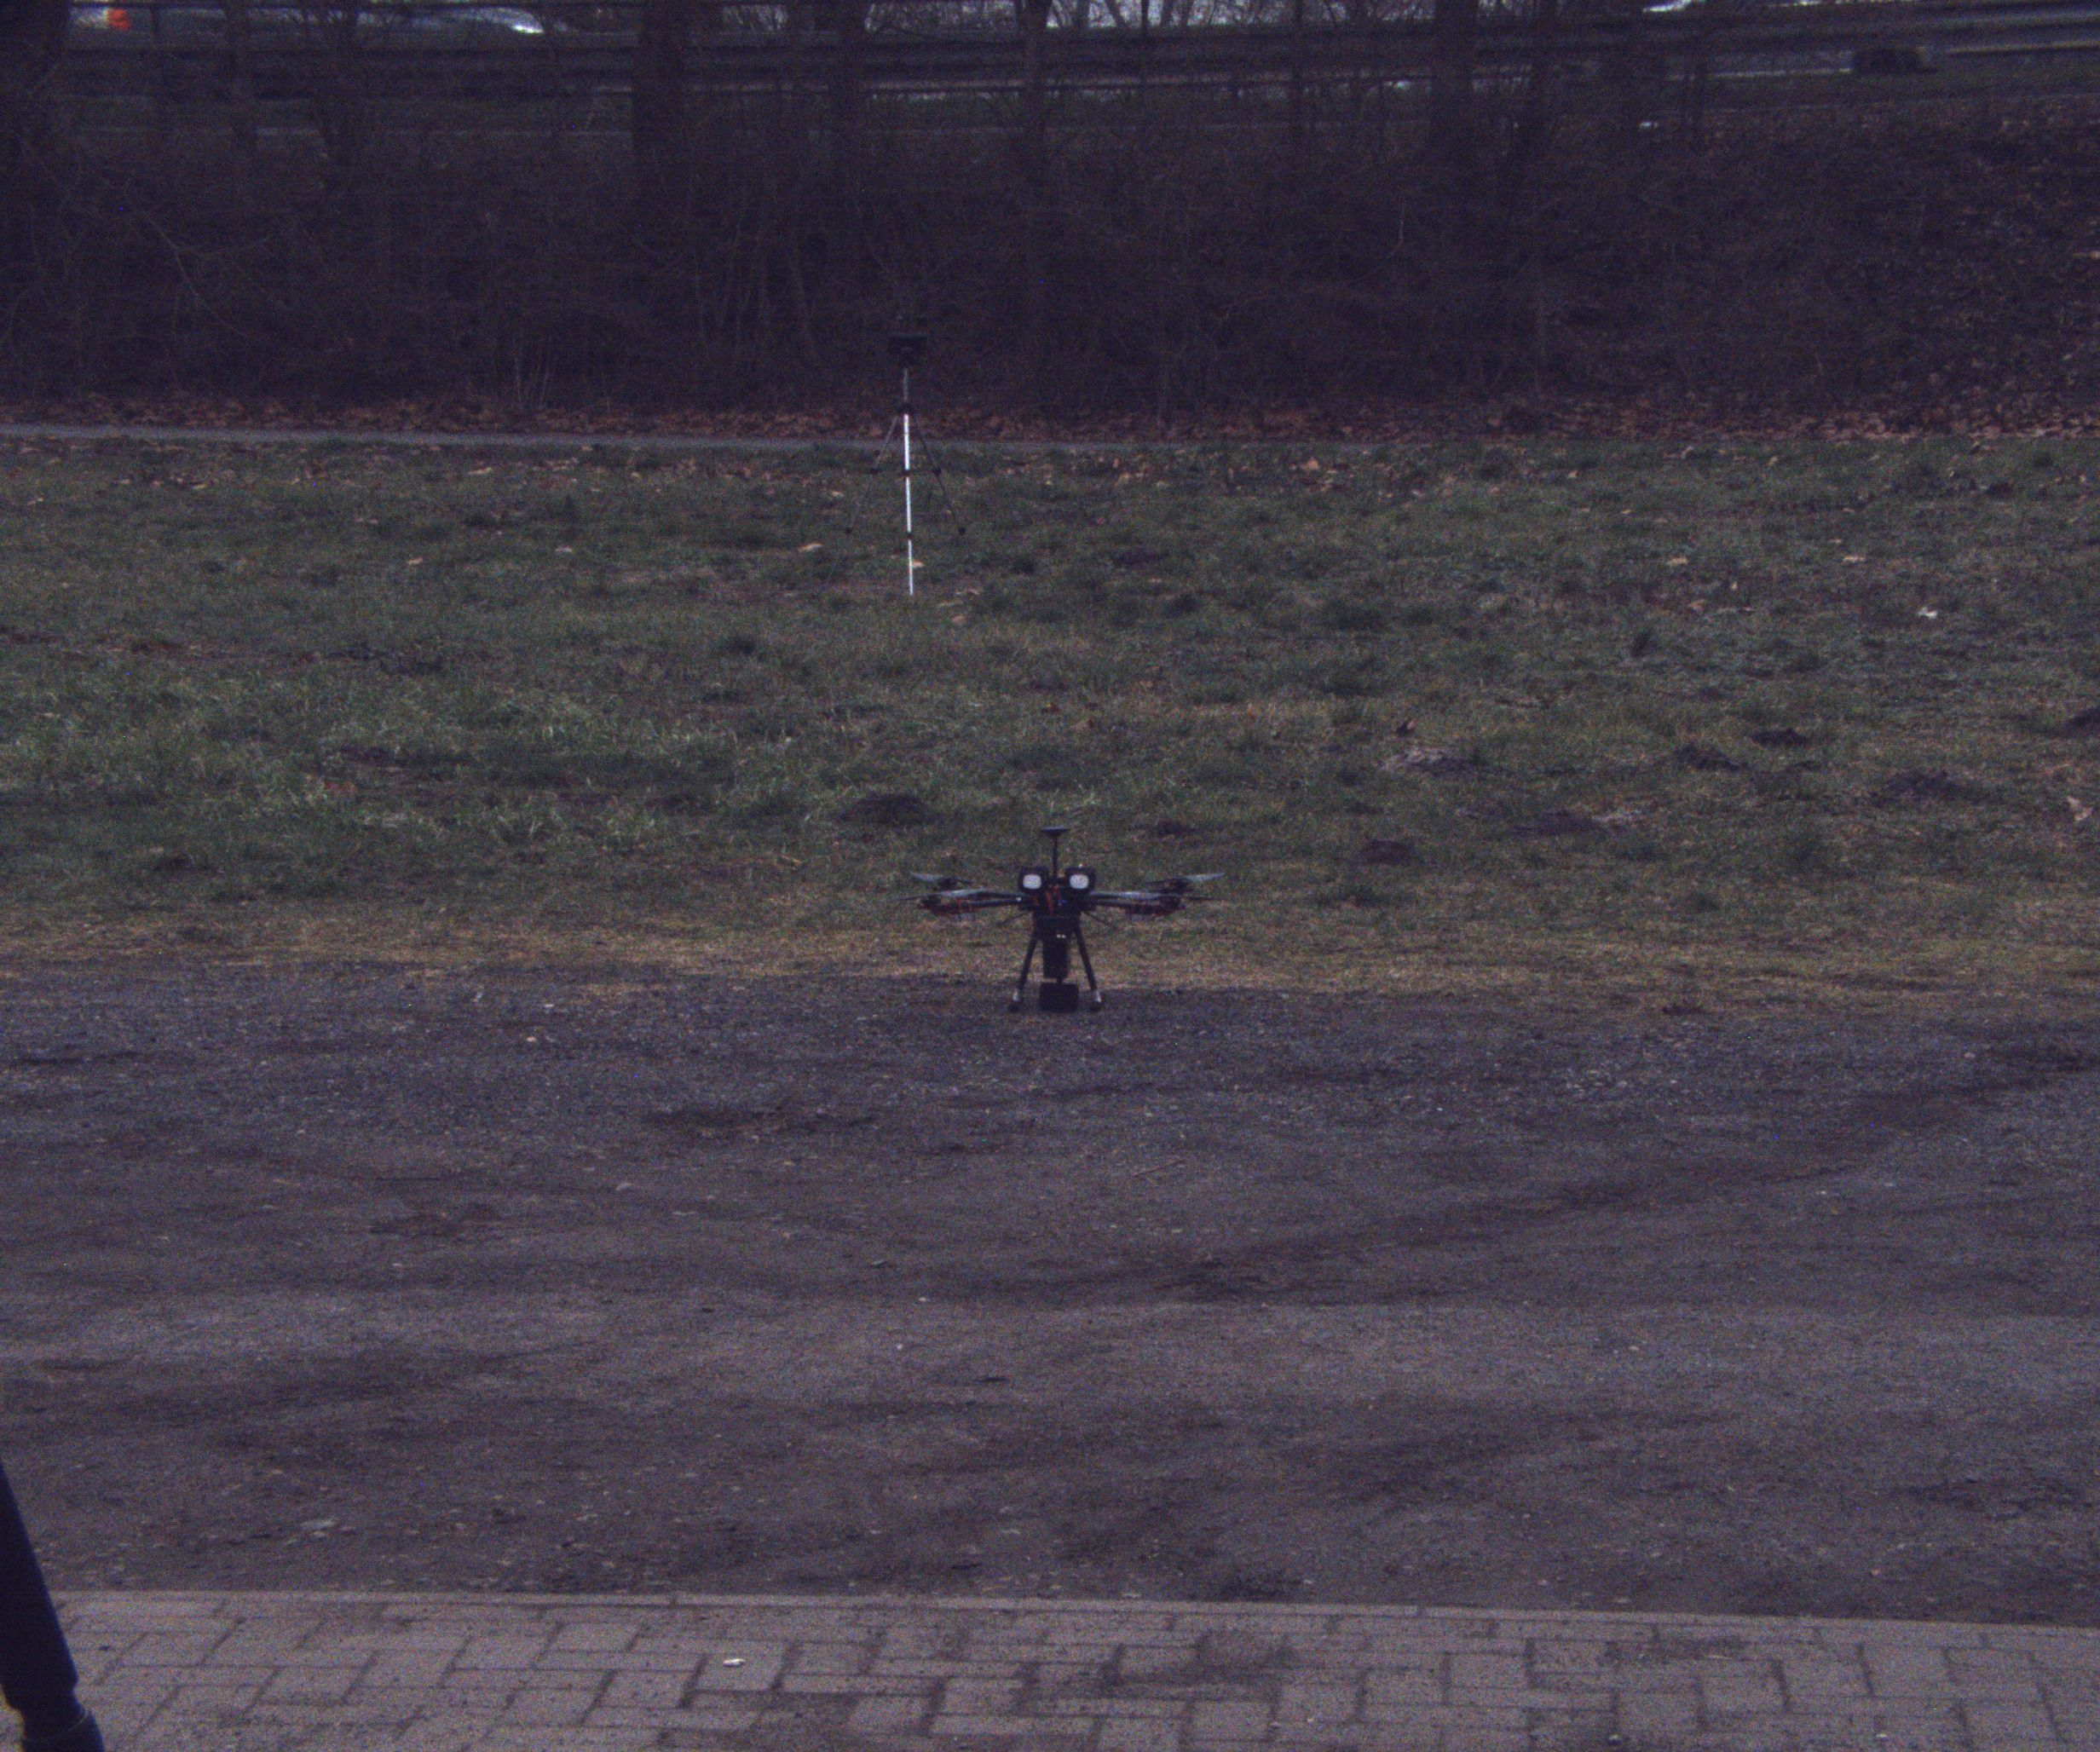Drohne: (888, 757, 1254, 1048)
